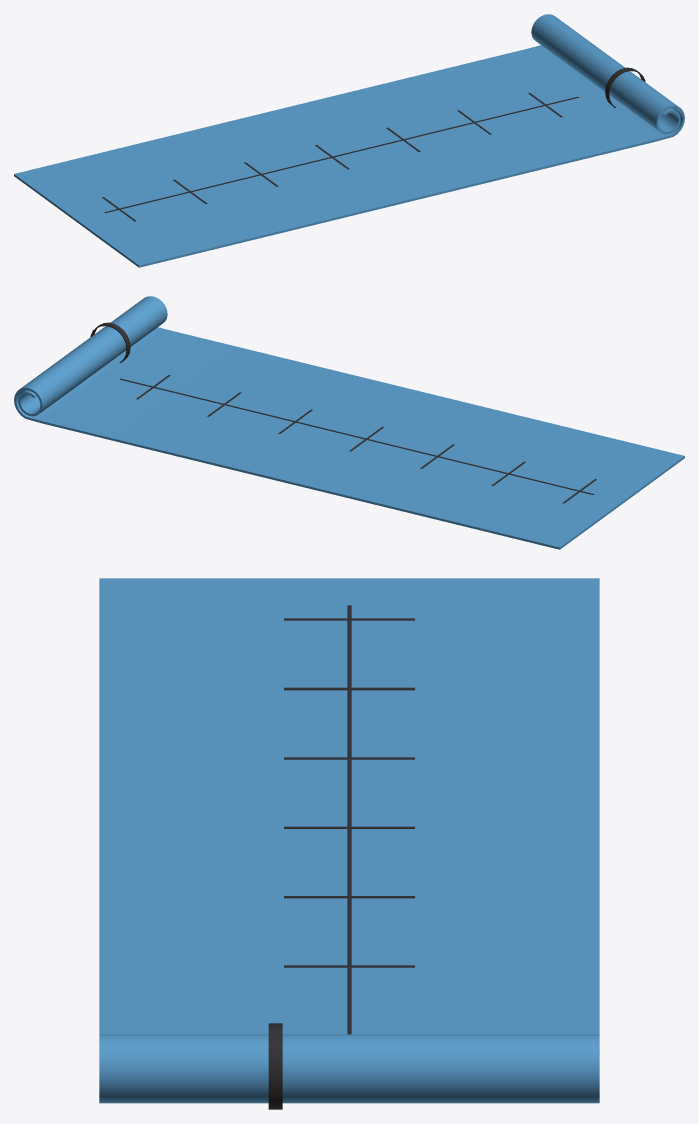
The model's file is yoga-mat.glb.
3 views of the same model, one above another, from view 1: azimuth 30°, elevation 25°; view 2: azimuth 150°, elevation 25°; view 3: azimuth 270°, elevation 25° (orthographic). The views are drawn at different scales.
Parts seen in each view (by area): view 1: SM_Jam_YogaMat; view 2: SM_Jam_YogaMat; view 3: SM_Jam_YogaMat.
Part boxes in pixels (bbox=[...]): SM_Jam_YogaMat: bbox=[14, 14, 684, 267]; SM_Jam_YogaMat: bbox=[14, 296, 684, 549]; SM_Jam_YogaMat: bbox=[99, 578, 599, 1109].
Size of the model in its own units: 1.55 by 0.1043 by 0.61.
